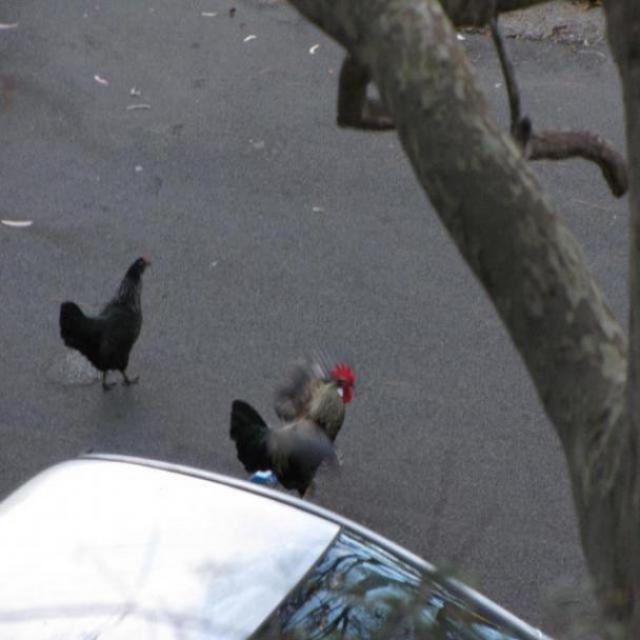Chicken: (56, 246, 153, 397), (268, 344, 360, 487), (226, 412, 340, 514)
